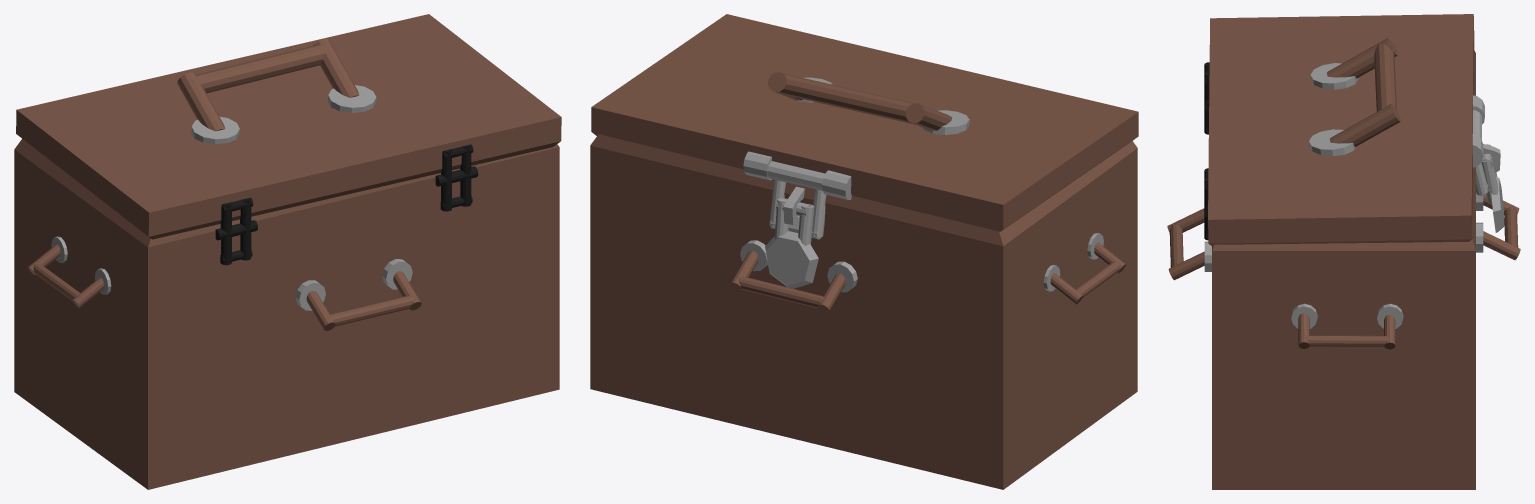
File: WW2 Ammo box.glb
3 renders of one model, left to right at view 1: azimuth 30°, elevation 25°; view 2: azimuth 150°, elevation 25°; view 3: azimuth 270°, elevation 25°, orthographic.
Visible parts, largest first — view 1: group1796618323; view 2: group1796618323; view 3: group1796618323, group1782592044.
Boxes of the visible parts, box(x1,y1,x2,y2) form: group1796618323: box(14, 14, 561, 489); group1796618323: box(590, 14, 1138, 489); group1796618323: box(1167, 14, 1520, 489); group1782592044: box(1481, 155, 1498, 203).
Size of the model in its own units: 0.8003 by 0.5136 by 0.5208.
